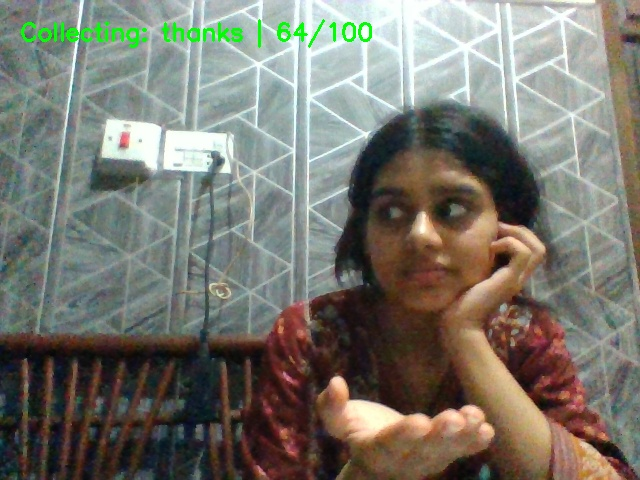thanks: (310, 362, 507, 478)
